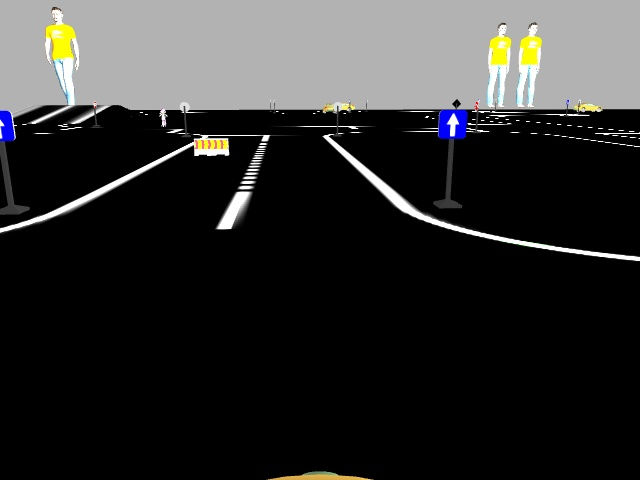ClosedRoadStand: (193, 139, 228, 155)
OneWay: (437, 112, 466, 138)
